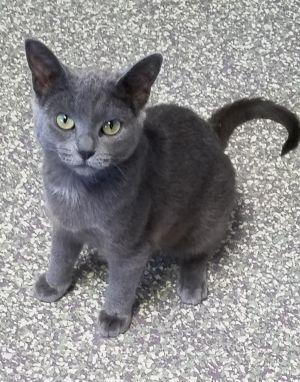rblue: (8, 24, 179, 214)
